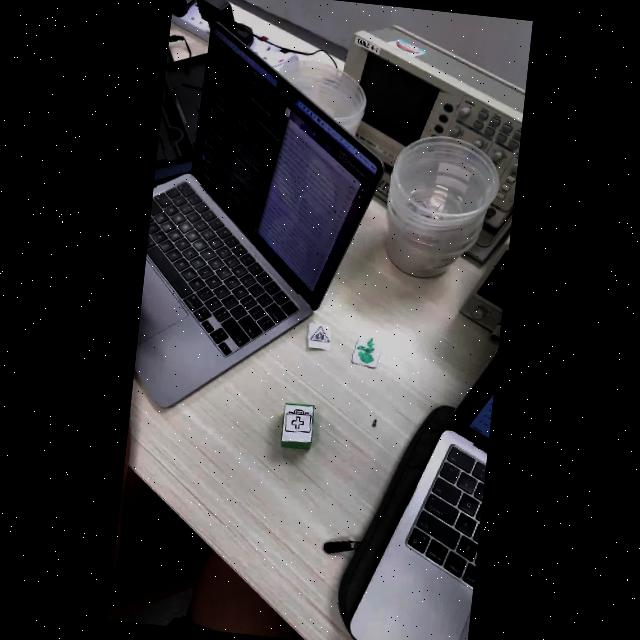Medkit: (283, 408, 306, 432)
